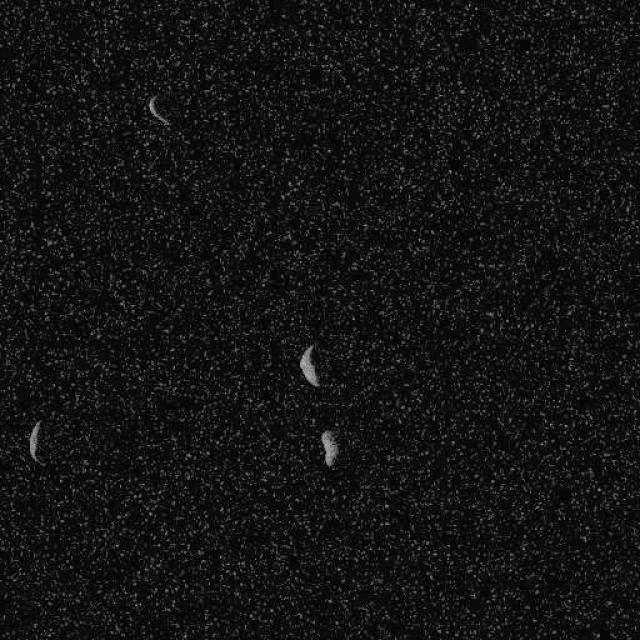D2: (298, 342, 322, 388), (27, 417, 45, 465), (319, 428, 339, 468), (145, 94, 170, 125)
